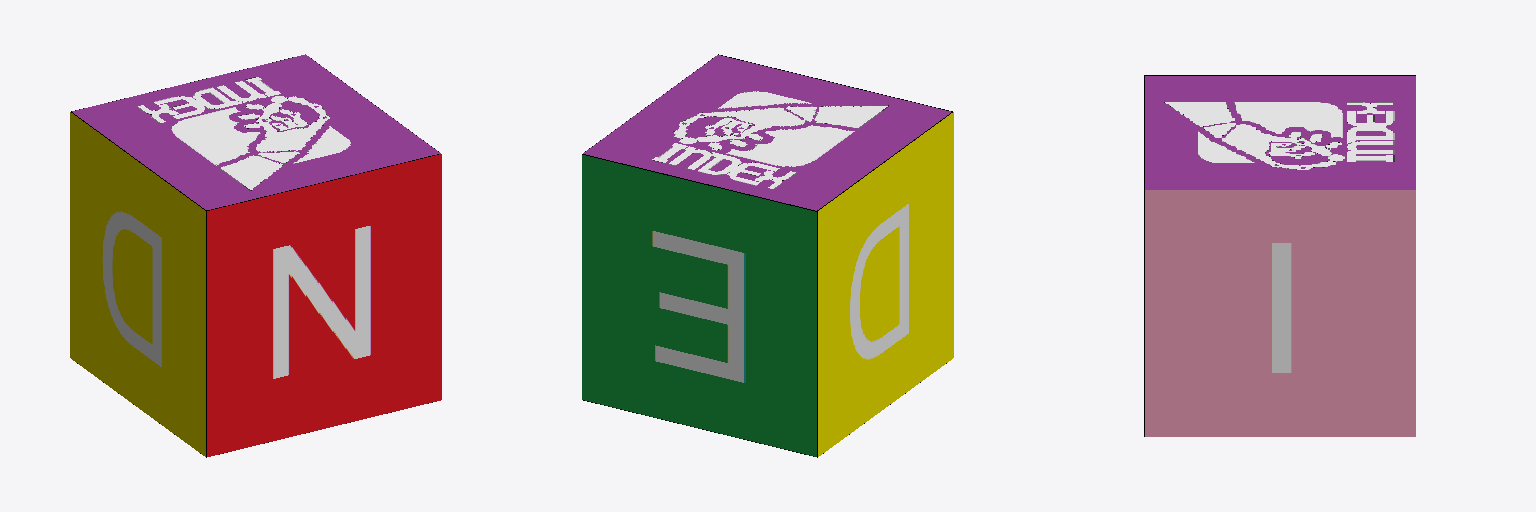
3 renders of one model, left to right at view 1: azimuth 30°, elevation 25°; view 2: azimuth 150°, elevation 25°; view 3: azimuth 270°, elevation 25°, orthographic.
Visible parts, largest first — view 1: Cube; view 2: Cube; view 3: Cube.
Boxes of the visible parts, x1,y1,x2,y2 form: Cube: [70, 54, 441, 457]; Cube: [582, 54, 953, 457]; Cube: [1144, 75, 1415, 436].
Bounding box in the file's own units: 0.05 × 0.05 × 0.05.
Materials: 1 (1 with a texture image).